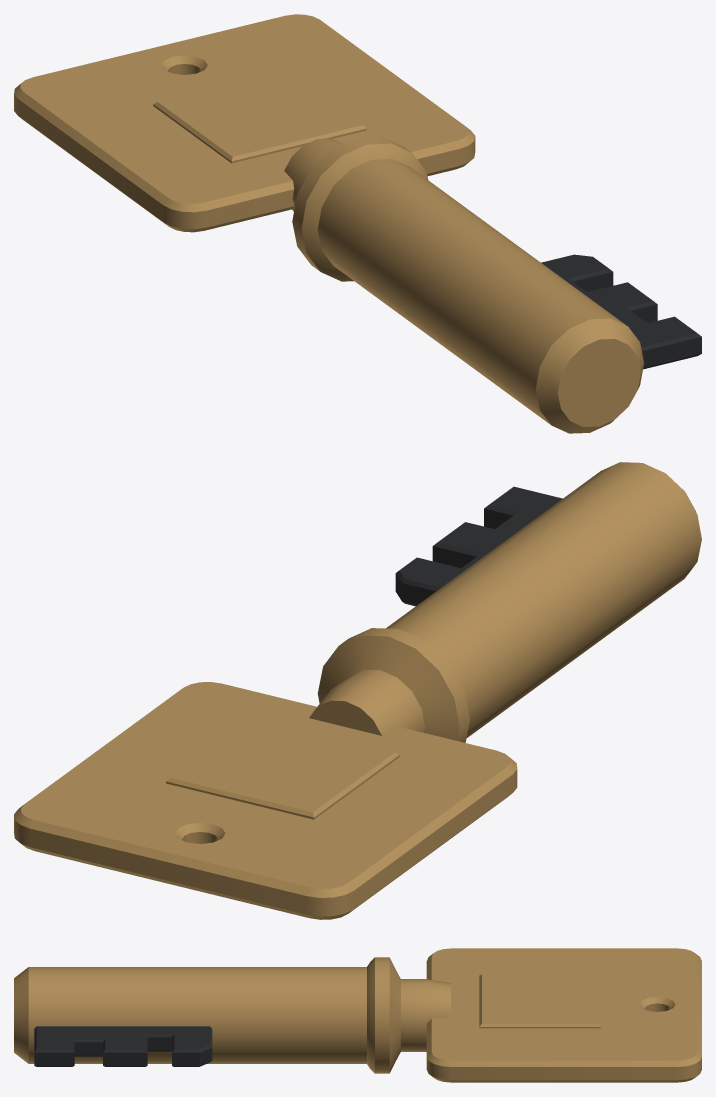
The model's file is key_square.glb.
3 renders of one model, top to bottom at view 1: azimuth 30°, elevation 25°; view 2: azimuth 150°, elevation 25°; view 3: azimuth 270°, elevation 25°, orthographic. The views are drawn at different scales.
Visible parts, largest first — view 1: key_square, key_bit; view 2: key_square, key_bit; view 3: key_square, key_bit.
Boxes of the visible parts, x1,y1,x2,y2 form: key_square: [14, 14, 643, 433]; key_bit: [541, 254, 701, 369]; key_square: [14, 462, 701, 919]; key_bit: [395, 486, 562, 606]; key_square: [14, 948, 701, 1082]; key_bit: [34, 1026, 212, 1066].
Bounding box in the file's own units: 0.034 × 0.0144 × 0.085.
